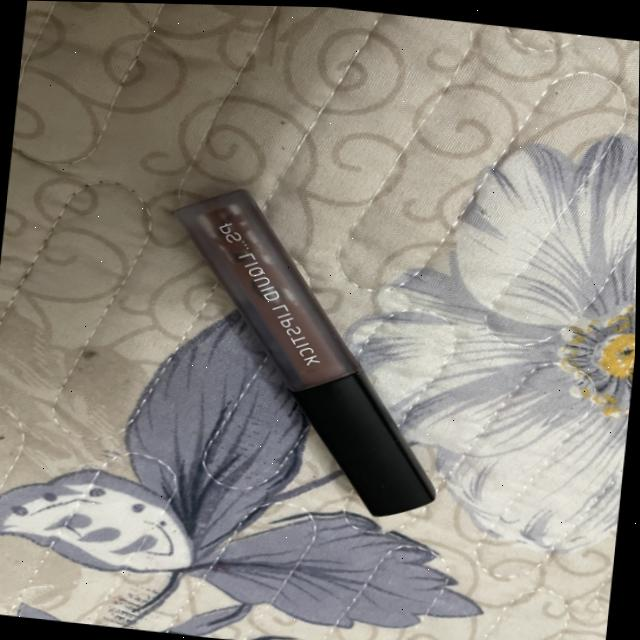lip gloss: (147, 187, 479, 542)
